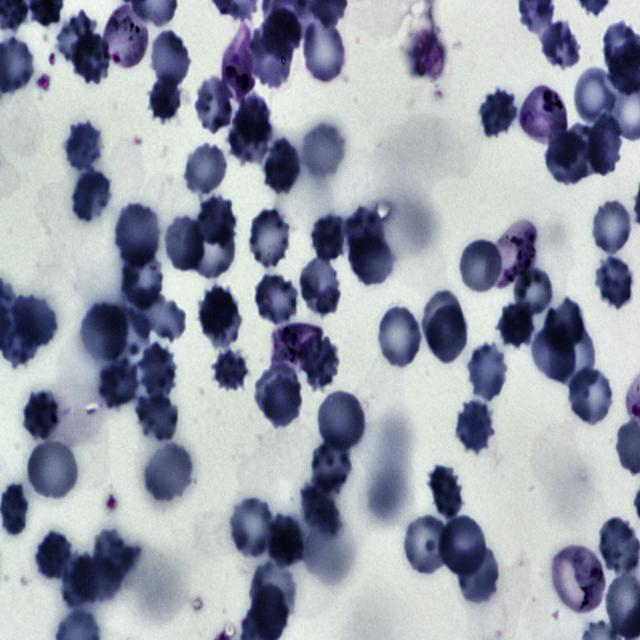red blood cell: (24, 437, 80, 502), (112, 201, 162, 270), (78, 300, 130, 366), (185, 216, 237, 281), (374, 304, 424, 371), (142, 441, 194, 503), (550, 324, 596, 392), (228, 494, 276, 559), (298, 122, 348, 184), (318, 388, 366, 452), (565, 366, 616, 426), (132, 288, 188, 342), (247, 206, 294, 270), (402, 514, 449, 578), (572, 66, 620, 126), (257, 367, 304, 428), (456, 545, 502, 607), (558, 123, 608, 180), (439, 515, 486, 575), (197, 287, 244, 347), (250, 563, 297, 623), (298, 255, 343, 317), (101, 306, 149, 364), (250, 26, 294, 87), (530, 326, 576, 384), (466, 342, 510, 402), (544, 131, 591, 187), (122, 248, 163, 312), (590, 198, 635, 256), (69, 166, 114, 224), (71, 553, 124, 602), (426, 303, 467, 366), (304, 18, 344, 82), (253, 272, 300, 326), (149, 30, 192, 89), (183, 141, 229, 196), (14, 292, 58, 349), (134, 390, 180, 444), (96, 356, 140, 412), (310, 438, 354, 494), (163, 215, 205, 273), (599, 517, 640, 576), (93, 528, 141, 578), (194, 77, 236, 134), (421, 290, 463, 347), (299, 333, 341, 390), (350, 235, 396, 287), (510, 266, 554, 320), (460, 238, 503, 293), (262, 137, 302, 196), (594, 254, 636, 310), (426, 463, 466, 521), (586, 114, 623, 176), (538, 20, 582, 72), (454, 400, 496, 454), (195, 195, 237, 249), (138, 342, 178, 398), (63, 120, 105, 173), (299, 483, 341, 536), (70, 32, 111, 86), (56, 8, 96, 63), (477, 89, 519, 141), (266, 510, 304, 567), (544, 298, 584, 352), (346, 206, 384, 262), (262, 7, 303, 58), (34, 531, 74, 583), (234, 92, 272, 146), (61, 553, 97, 609), (229, 112, 268, 163), (147, 73, 185, 125), (310, 213, 348, 264), (18, 388, 59, 435), (496, 302, 535, 350), (0, 482, 28, 537), (213, 348, 247, 390)
ring: (100, 4, 147, 70)
trophozoite: (550, 544, 605, 616), (488, 218, 537, 289), (518, 84, 571, 147), (221, 22, 255, 101), (271, 323, 324, 373)
